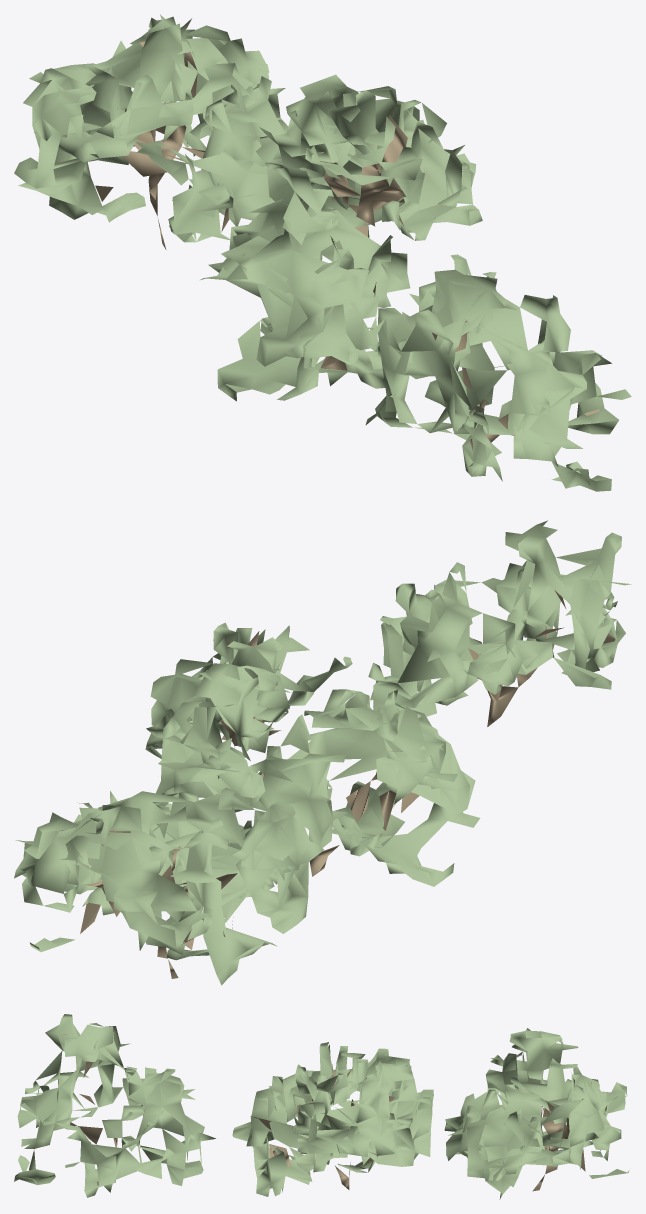
Rendered from oak-far.glb.
The picture shows the model from 3 angles, top to bottom: view 1: azimuth 30°, elevation 25°; view 2: azimuth 150°, elevation 25°; view 3: azimuth 270°, elevation 25°; orthographic projection. The views are drawn at different scales.
Bounding box in the file's own units: 126 × 95.49 × 348.
